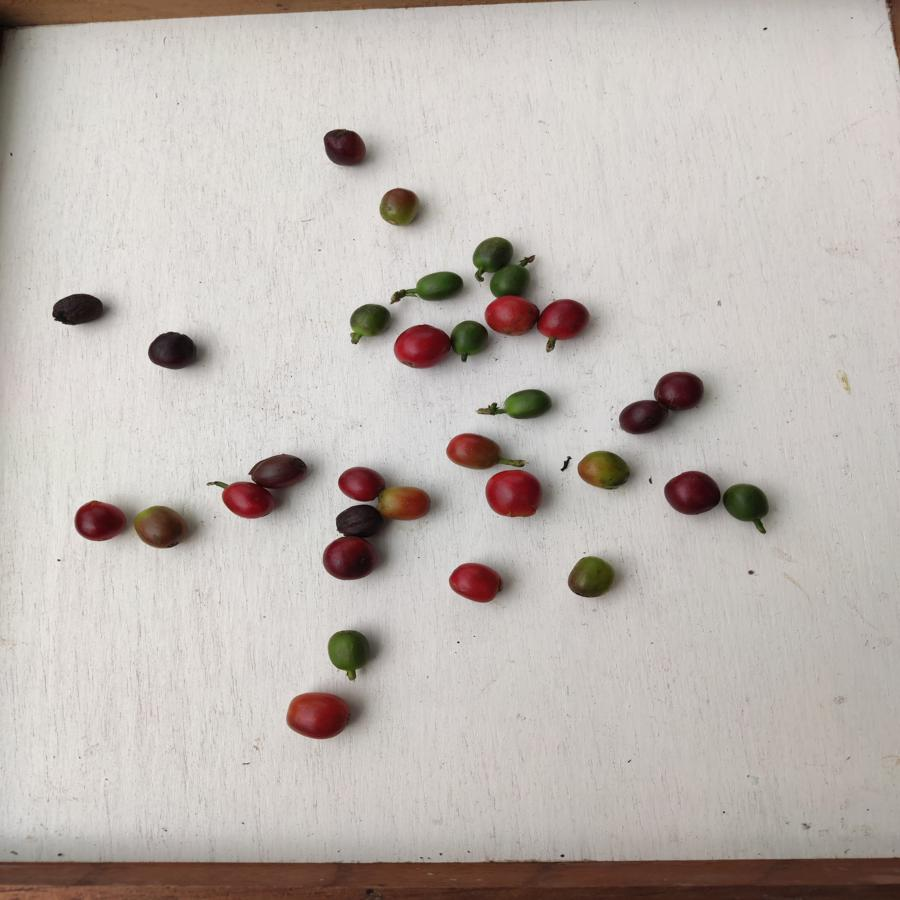Inmaduro: (721, 483, 771, 524), (325, 627, 371, 671), (500, 386, 553, 420), (469, 232, 511, 274), (349, 299, 392, 338), (414, 271, 466, 302), (449, 317, 487, 357), (488, 265, 535, 295)
Maduro: (286, 688, 352, 741), (484, 468, 542, 525), (392, 321, 453, 368), (447, 555, 506, 602), (215, 480, 280, 519), (538, 295, 591, 341), (486, 293, 542, 335), (444, 430, 501, 469), (338, 465, 378, 501)
Pinton: (130, 503, 192, 550), (573, 450, 633, 488), (568, 552, 614, 599), (378, 485, 434, 522), (379, 189, 420, 226)
Sobremaduro: (664, 465, 720, 519), (319, 536, 378, 583), (331, 503, 388, 544), (654, 370, 707, 412), (78, 496, 126, 542), (251, 451, 309, 488), (146, 331, 201, 370), (51, 290, 106, 328), (322, 127, 368, 172), (614, 396, 667, 433)
